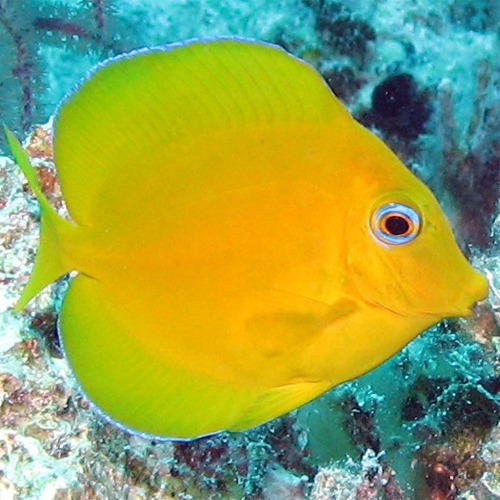Acanthurus_coeruleus: (3, 36, 492, 445)
